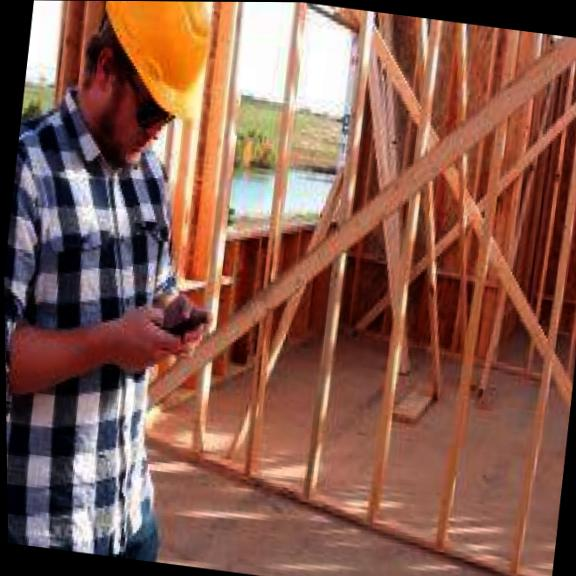no_safety_vest: (2, 110, 206, 547)
